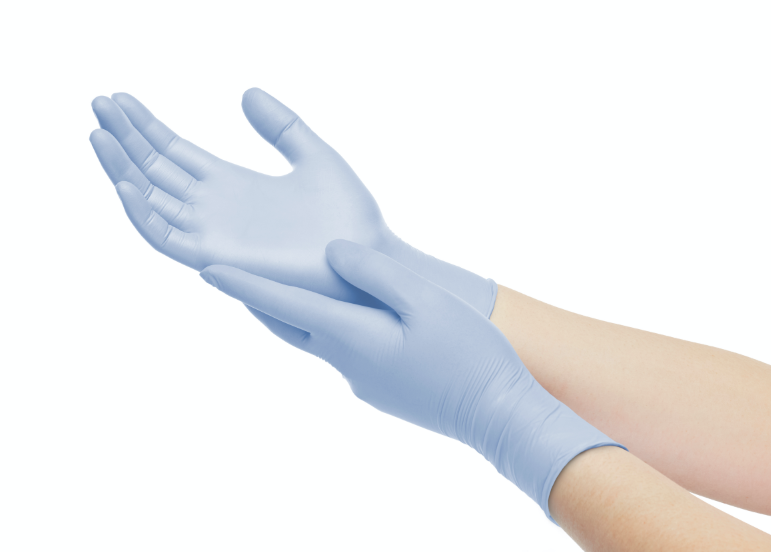Gloves: (196, 231, 541, 499), (82, 85, 401, 288)
